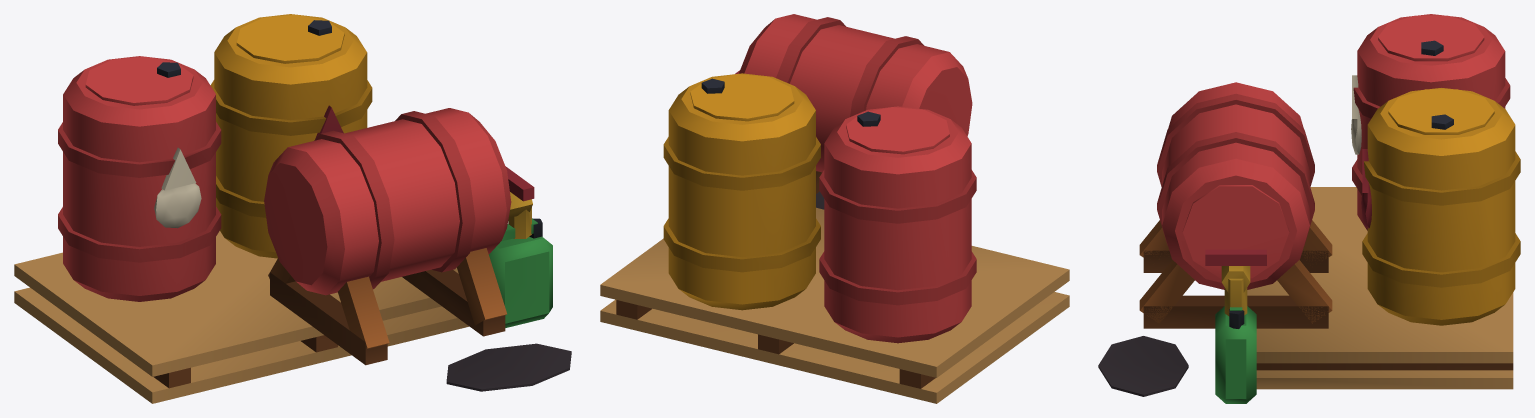
The model's file is n_barrel_fuel.glb.
3 views of the same model, side by side, from view 1: azimuth 30°, elevation 25°; view 2: azimuth 150°, elevation 25°; view 3: azimuth 270°, elevation 25° (orthographic). The views are drawn at different scales.
Visible parts, largest first — view 1: body; view 2: body; view 3: body.
Part boxes in pixels (x1,y1,x2,y2): body: [14, 14, 571, 403]; body: [600, 14, 1069, 403]; body: [1098, 14, 1520, 403].
Bounding box in the file's own units: 2.12 × 1.25 × 2.06.
